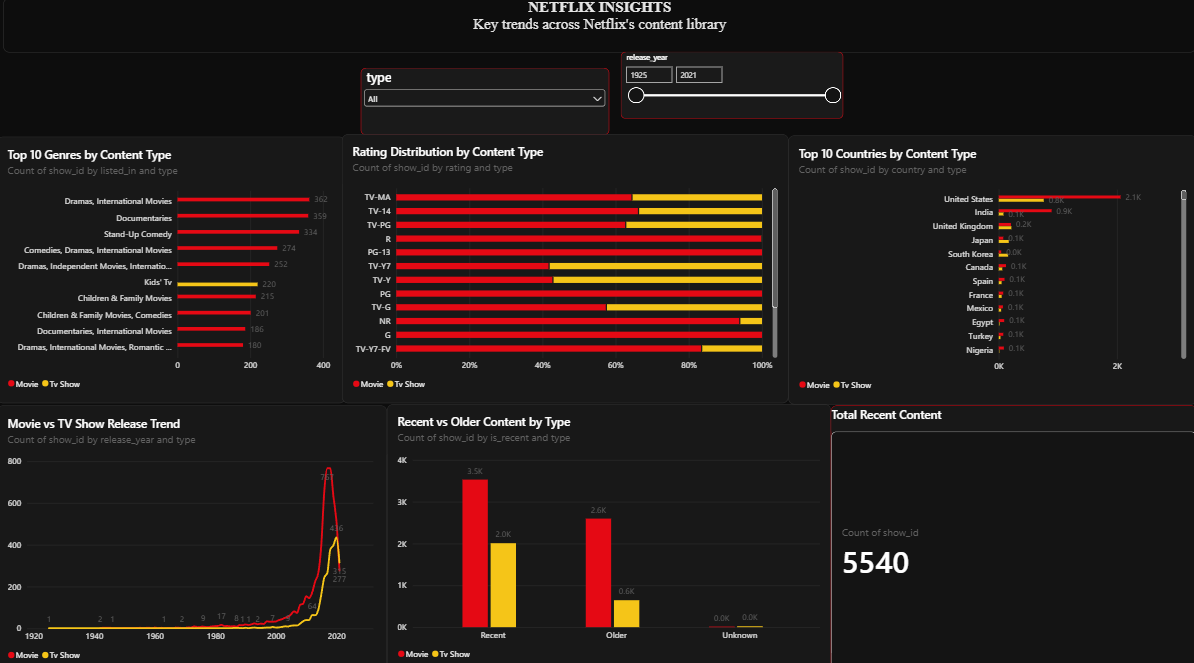

The dashboard page shown, as its layout file describes it:
{"tool":"powerbi","page":{"name":"Netflix Insights","canvas":[1920,1080],"ordinal":2},"visuals":[{"type":"textbox","box":[10.9,0,1909.2,86.9],"z":0},{"type":"slicer","fields":{"Values":["netflix_cleaned.type"]},"box":[582.5,111.1,397.3,107],"z":1},{"type":"clusteredBarChart","title":"Top 10 Genres by Content Type","fields":{"Category":["netflix_cleaned.listed_in"],"Series":["netflix_cleaned.type"],"Y":["CountNonNull(netflix_cleaned.show_id)"]},"box":[0,222.3,557.8,426.1],"z":2},{"type":"lineChart","title":"Movie vs TV Show Release Trend","fields":{"Category":["netflix_cleaned.release_year"],"Series":["netflix_cleaned.type"],"Y":["CountNonNull(netflix_cleaned.show_id)"]},"box":[0,652.5,623.7,430.2],"z":3},{"type":"hundredPercentStackedBarChart","title":"Rating Distribution by Content Type","fields":{"Category":["netflix_cleaned.rating"],"Series":["netflix_cleaned.type"],"Y":["CountNonNull(netflix_cleaned.show_id)"]},"box":[551.6,218.2,714.2,430.2],"z":4},{"type":"clusteredColumnChart","title":"Recent vs Older Content by Type","fields":{"Category":["netflix_cleaned.is_recent"],"Series":["netflix_cleaned.type"],"Y":["CountNonNull(netflix_cleaned.show_id)"]},"box":[623.7,650.4,710.1,430.2],"z":5},{"type":"clusteredBarChart","title":"Top 10 Countries by Content Type","fields":{"Category":["netflix_cleaned.country"],"Series":["netflix_cleaned.type"],"Y":["CountNonNull(netflix_cleaned.show_id)"]},"box":[1265.9,220.2,654,430],"z":6},{"type":"cardVisual","title":"Total Recent Content","fields":{"Data":["CountNonNull(netflix_cleaned.show_id)"]},"box":[1333.8,652.5,586.6,430.2],"z":7},{"type":"slicer","fields":{"Values":["netflix_cleaned.release_year"]},"box":[998.9,86.9,356.1,107],"z":8}]}

Visuals, with their boxes in screenshot pixels (x1, y1, x2, y2), scaled from the page's 1920x1080 canvas onto the 1194x663 screenshot:
textbox: region(7, 0, 1193, 53)
slicer - netflix_cleaned.type: region(362, 68, 609, 134)
"Top 10 Genres by Content Type" clusteredBarChart: region(0, 136, 347, 398)
"Movie vs TV Show Release Trend" lineChart: region(0, 401, 388, 662)
"Rating Distribution by Content Type" hundredPercentStackedBarChart: region(343, 134, 787, 398)
"Recent vs Older Content by Type" clusteredColumnChart: region(388, 399, 829, 662)
"Top 10 Countries by Content Type" clusteredBarChart: region(787, 135, 1193, 399)
"Total Recent Content" cardVisual: region(829, 401, 1193, 662)
slicer - netflix_cleaned.release_year: region(621, 53, 843, 119)
